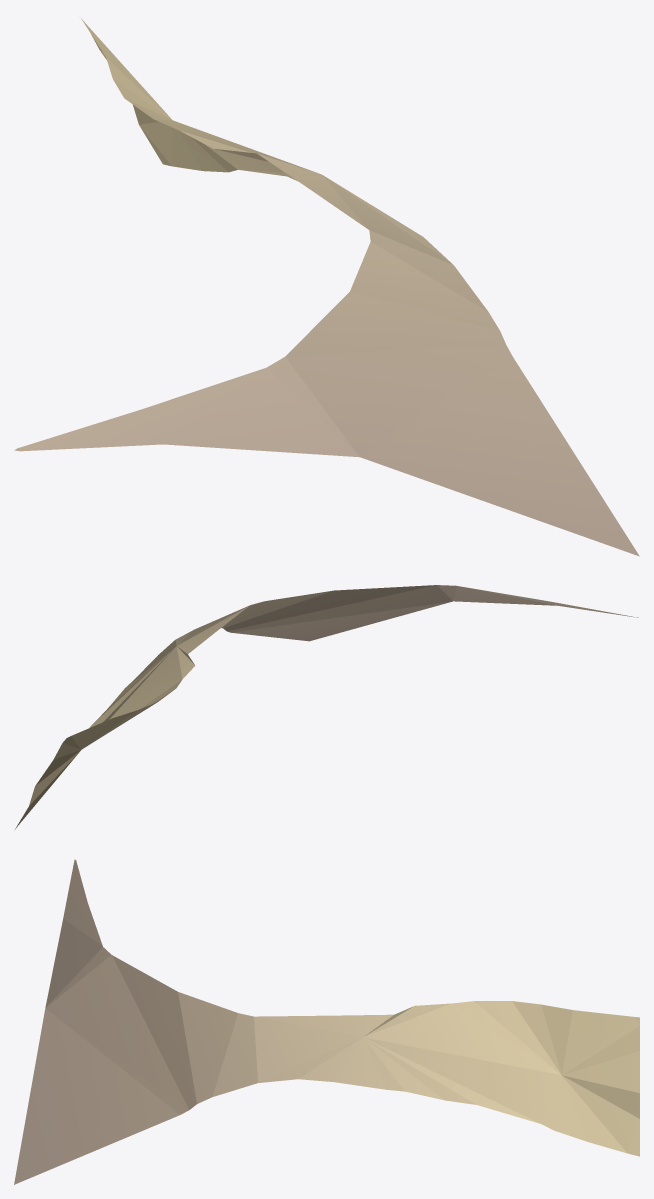
Rendered from bisect-4-4-0.gltf.
3 views of the same model, one above another, from view 1: azimuth 30°, elevation 25°; view 2: azimuth 150°, elevation 25°; view 3: azimuth 270°, elevation 25° (orthographic). The views are drawn at different scales.
Visible parts, largest first — view 1: bisect-4-4-0; view 2: bisect-4-4-0; view 3: bisect-4-4-0.
Boxes of the visible parts, box(x1,y1,x2,y2) form: bisect-4-4-0: box(14, 18, 639, 556); bisect-4-4-0: box(15, 585, 638, 829); bisect-4-4-0: box(14, 859, 639, 1184).
Bounding box in the file's own units: 9.79 × 3.45 × 13.96.
